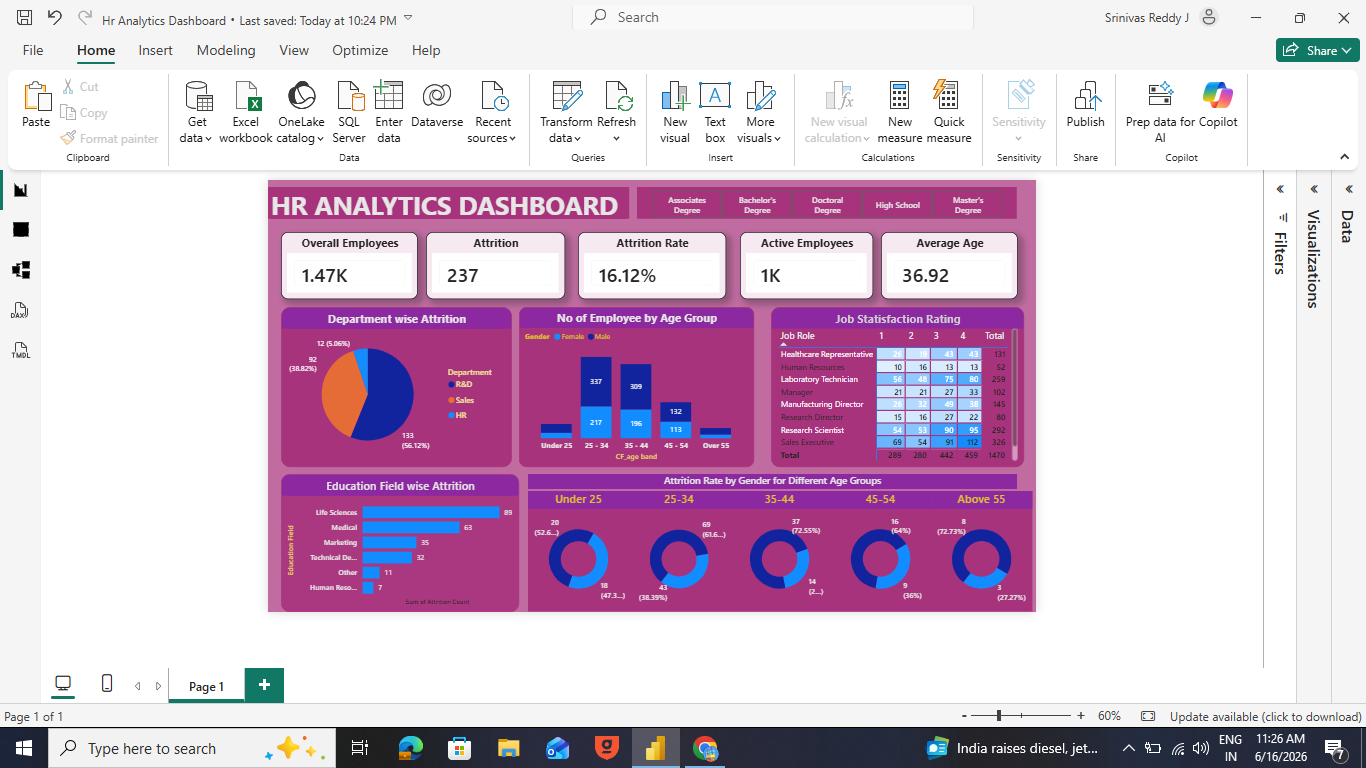

The page's visual inventory and layout, read from the dashboard file:
{"tool":"powerbi","page":{"name":"Page 1","canvas":[1280,720],"ordinal":0},"visuals":[{"type":"cardVisual","title":"Overall Employees","fields":{"Data":["CountNonNull(HR data.Employee Count)"]},"box":[21.7,86.7,228.3,111.7],"z":0},{"type":"cardVisual","title":"Attrition","fields":{"Data":["Sum(HR data.Attrition Count)"]},"box":[263.3,86.7,231.7,111.7],"z":1000},{"type":"cardVisual","title":"Attrition Rate","fields":{"Data":["HR data.Attrition Rate"]},"box":[516.7,86.7,246.7,111.7],"z":2000},{"type":"cardVisual","title":"Active Employees","fields":{"Data":["HR data.Active Employees"]},"box":[786.7,86.7,221.7,111.7],"z":3000},{"type":"cardVisual","title":"Average Age","fields":{"Data":["Avg(HR data.Age)"]},"box":[1021.7,86.7,228.3,111.7],"z":4000},{"type":"pieChart","title":"Department wise Attrition","fields":{"Category":["HR data.Department"],"Y":["Sum(HR data.Attrition Count)"]},"box":[21.7,211.7,385,266.7],"z":5000},{"type":"columnChart","title":"No of Employee by Age Group","fields":{"Category":["HR data.CF_age band"],"Y":["Sum(HR data.Employee Count)"],"Series":["HR data.Gender"]},"box":[418.3,211.7,391.7,266.7],"z":6000},{"type":"pivotTable","title":"Job Statisfaction Rating","fields":{"Rows":["HR data.Job Role"],"Columns":["HR data.Job Satisfaction"],"Values":["Sum(HR data.Employee Count)"]},"box":[838.3,211.7,421.7,266.7],"z":7000},{"type":"barChart","title":" Education Field wise Attrition","fields":{"Category":["HR data.Education Field"],"Y":["Sum(HR data.Attrition Count)"]},"box":[21.7,490,396.7,230],"z":8000},{"type":"donutChart","title":"Under 25","fields":{"Category":["HR data.Gender"],"Y":["Sum(HR data.Attrition Count)"],"Series":["HR data.CF_age band"]},"box":[432.9,518.6,168.6,201.4],"z":9000},{"type":"textbox","title":"Attrition Rate by Gender for Different Age Groups","box":[433.3,490,815,25],"z":10000},{"type":"donutChart","title":"Above 55","fields":{"Category":["HR data.Gender"],"Y":["Sum(HR data.Attrition Count)"],"Series":["HR data.CF_age band"]},"box":[1105.7,518.6,168.6,201.4],"z":11000},{"type":"donutChart","title":"35-44","fields":{"Category":["HR data.Gender"],"Y":["Sum(HR data.Attrition Count)"],"Series":["HR data.CF_age band"]},"box":[768.6,518.6,168.6,201.4],"z":12000},{"type":"donutChart","title":"25-34","fields":{"Category":["HR data.Gender"],"Y":["Sum(HR data.Attrition Count)"],"Series":["HR data.CF_age band"]},"box":[601.4,518.6,167.1,201.4],"z":13000},{"type":"donutChart","title":"45-54","fields":{"Category":["HR data.Gender"],"Y":["Sum(HR data.Attrition Count)"],"Series":["HR data.CF_age band"]},"box":[937.1,518.6,168.6,201.4],"z":14000},{"type":"cardVisual","fields":{"Data":["Sum(HR data.Attrition Count)"]},"box":[494.4,613.9,45.6,31.1],"z":15000},{"type":"textbox","title":"HR ANALYTICS DASHBOARD","box":[0,11.7,601.7,53.3],"z":16000},{"type":"slicer","fields":{"Values":["HR data.Education"]},"box":[615,11.7,633.3,53.3],"z":17000}]}

Visuals, with their boxes on the page's 1280x720 design canvas (x1, y1, x2, y2). These are canvas units, not pixel positions in the 1366x768 screenshot, which may show the page scaled, cropped or inside an application window:
"Overall Employees" cardVisual: BBox(22, 87, 250, 198)
"Attrition" cardVisual: BBox(263, 87, 495, 198)
"Attrition Rate" cardVisual: BBox(517, 87, 763, 198)
"Active Employees" cardVisual: BBox(787, 87, 1008, 198)
"Average Age" cardVisual: BBox(1022, 87, 1250, 198)
"Department wise Attrition" pieChart: BBox(22, 212, 407, 478)
"No of Employee by Age Group" columnChart: BBox(418, 212, 810, 478)
"Job Statisfaction Rating" pivotTable: BBox(838, 212, 1260, 478)
" Education Field wise Attrition" barChart: BBox(22, 490, 418, 720)
"Under 25" donutChart: BBox(433, 519, 602, 720)
"Attrition Rate by Gender for Different Age Groups" textbox: BBox(433, 490, 1248, 515)
"Above 55" donutChart: BBox(1106, 519, 1274, 720)
"35-44" donutChart: BBox(769, 519, 937, 720)
"25-34" donutChart: BBox(601, 519, 768, 720)
"45-54" donutChart: BBox(937, 519, 1106, 720)
cardVisual - Sum(HR data.Attrition Count): BBox(494, 614, 540, 645)
"HR ANALYTICS DASHBOARD" textbox: BBox(0, 12, 602, 65)
slicer - HR data.Education: BBox(615, 12, 1248, 65)
